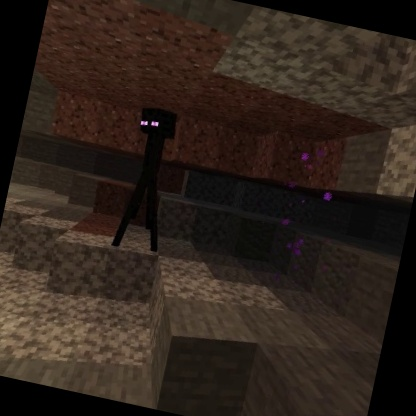enderman: (107, 102, 188, 259)
